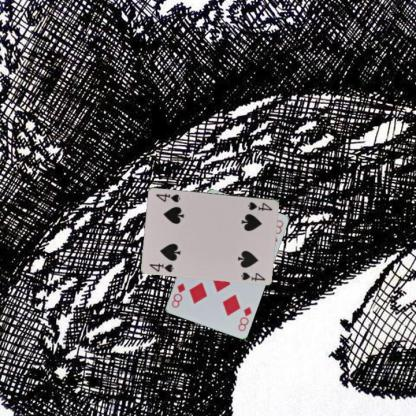4s: (245, 199, 274, 212), (147, 260, 175, 273)
8d: (235, 303, 253, 332)
